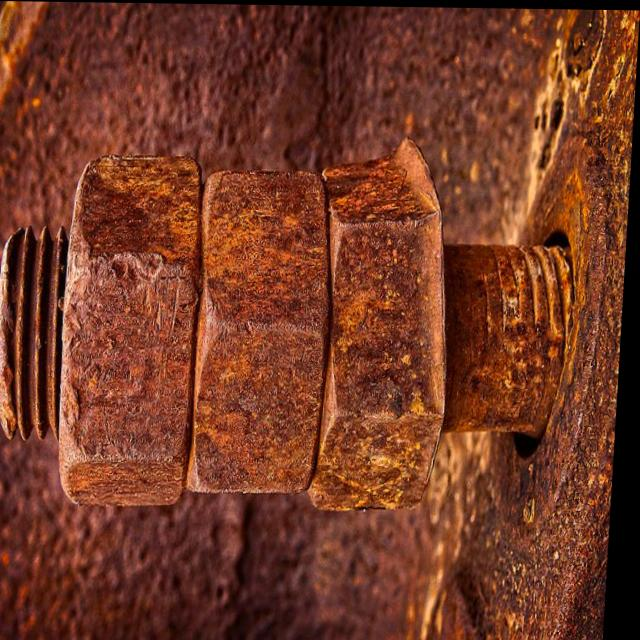Rusty bolt: (316, 137, 500, 517), (45, 152, 212, 512), (186, 163, 335, 497)
